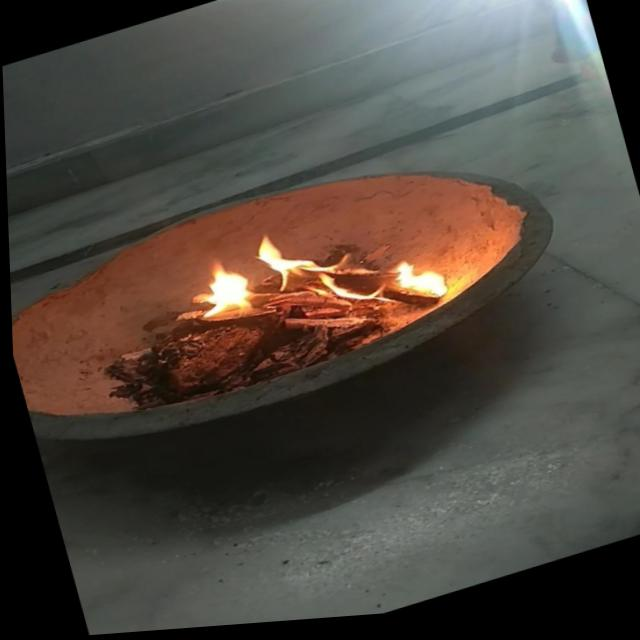fire: (233, 214, 351, 316), (172, 253, 263, 335), (376, 246, 458, 322)
